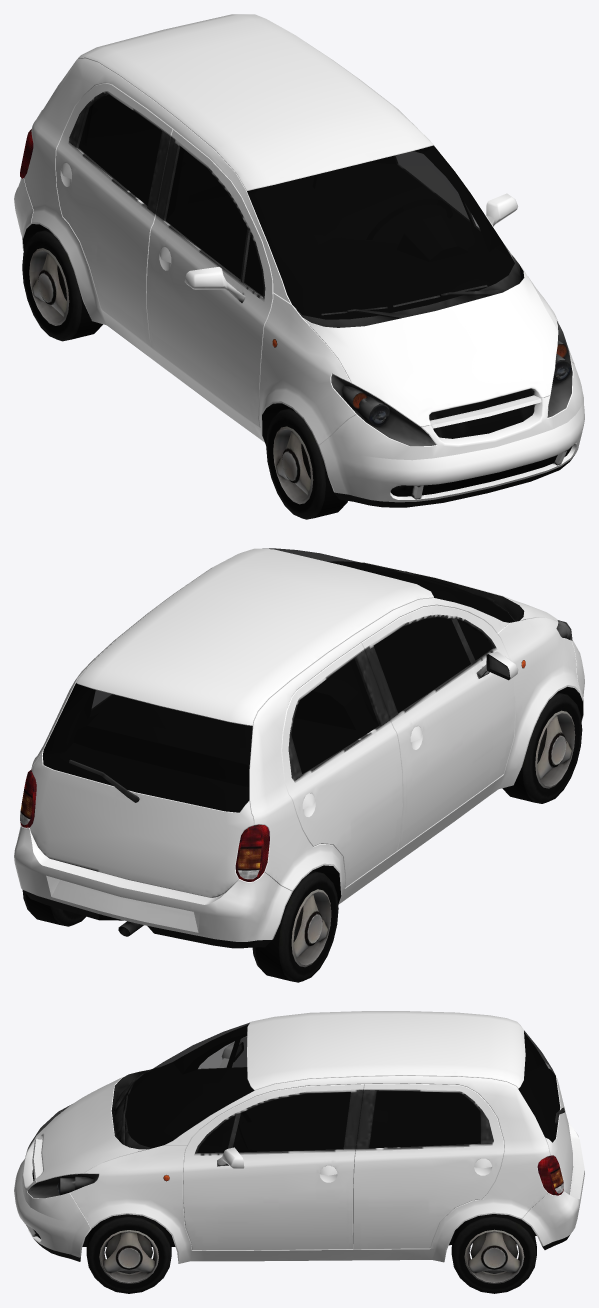
File: cmp_compact.glb
3 renders of one model, top to bottom at view 1: azimuth 30°, elevation 25°; view 2: azimuth 150°, elevation 25°; view 3: azimuth 270°, elevation 25°, orthographic. The views are drawn at different scales.
Visible parts, largest first — view 1: Compact Body, Wheel_C003, Wheel_C002; view 2: Compact Body, Wheel_C002, Wheel_C003, Wheel_C001; view 3: Compact Body, Wheel_C001, Wheel_C.
Part boxes in pixels (<box>): Compact Body: <box>14,14,584,507</box>; Wheel_C003: <box>266,408,347,519</box>; Wheel_C002: <box>22,229,102,341</box>; Compact Body: <box>14,548,584,948</box>; Wheel_C002: <box>252,870,338,982</box>; Wheel_C003: <box>502,692,582,803</box>; Wheel_C001: <box>22,890,85,926</box>; Compact Body: <box>14,1011,584,1263</box>; Wheel_C001: <box>451,1214,536,1293</box>; Wheel_C: <box>86,1214,171,1293</box>.
Size of the model in its own units: 1.61 by 1.32 by 3.26.
Materials: 4 (3 with a texture image).
